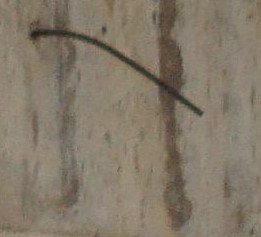Exposed reinforcement: (28, 28, 205, 118)
